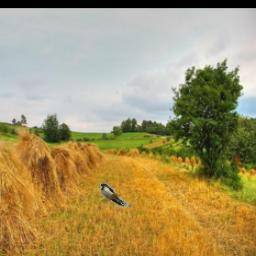Swallow: (100, 183, 131, 207)
